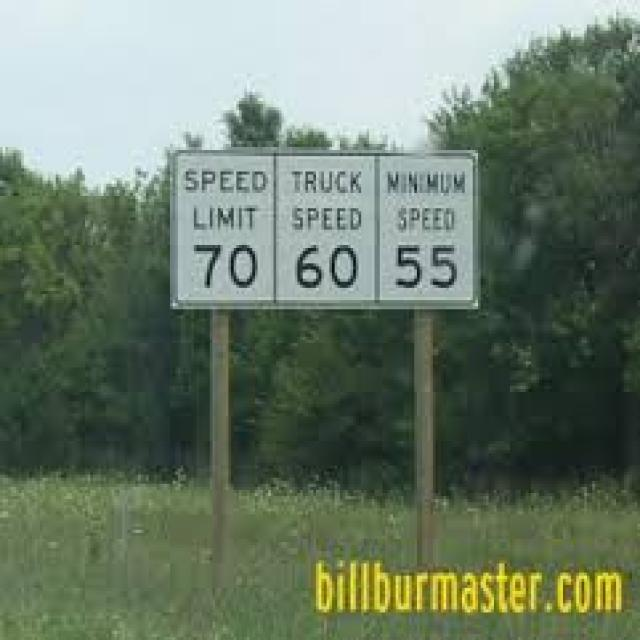speedLimit70: (175, 147, 276, 303)
